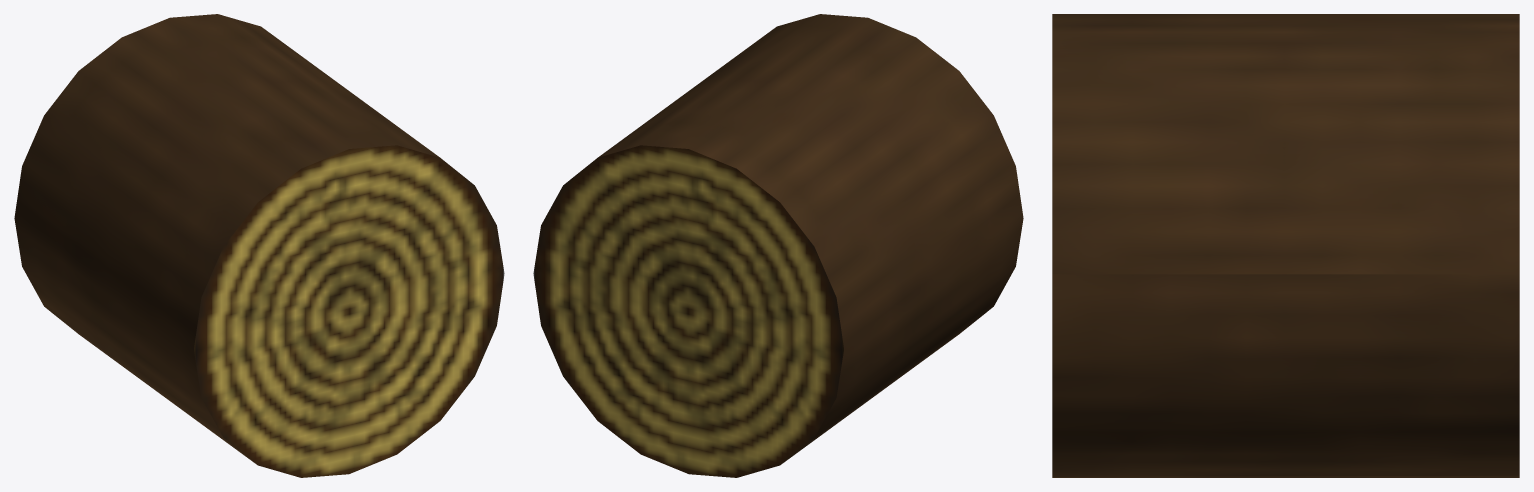
File: log(model).fbx
3 views of the same model, side by side, from view 1: azimuth 30°, elevation 25°; view 2: azimuth 150°, elevation 25°; view 3: azimuth 270°, elevation 25° (orthographic). The views are drawn at different scales.
Parts seen in each view (by area): view 1: pCylinder1; view 2: pCylinder1; view 3: pCylinder1.
Part boxes in pixels (left/top/right/bottom): pCylinder1: left=14, top=14, right=504, bottom=477; pCylinder1: left=533, top=14, right=1023, bottom=477; pCylinder1: left=1052, top=14, right=1519, bottom=477.
Size of the model in its own units: 2 by 2 by 2.
